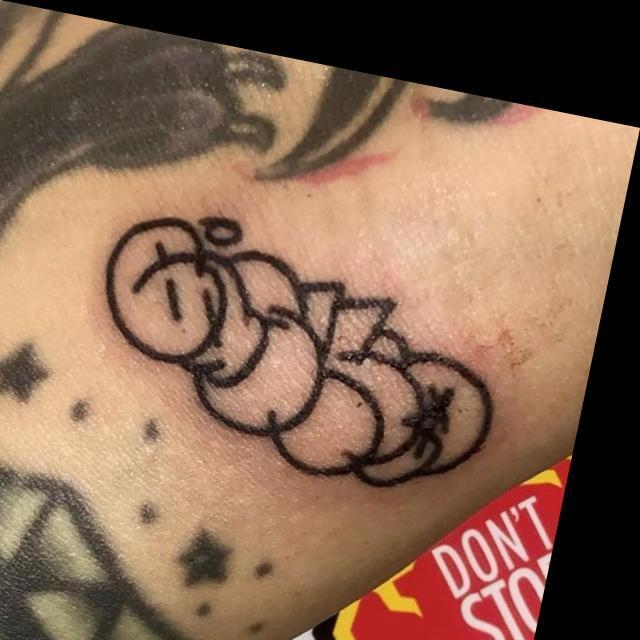-: (65, 156, 550, 504)
